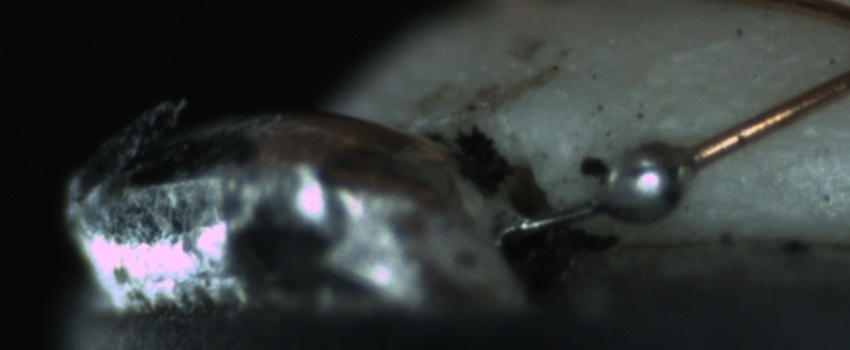DL: (651, 113, 849, 163)
TB: (591, 136, 701, 229)
TS: (508, 141, 697, 236)
TTCW: (493, 129, 737, 251)
